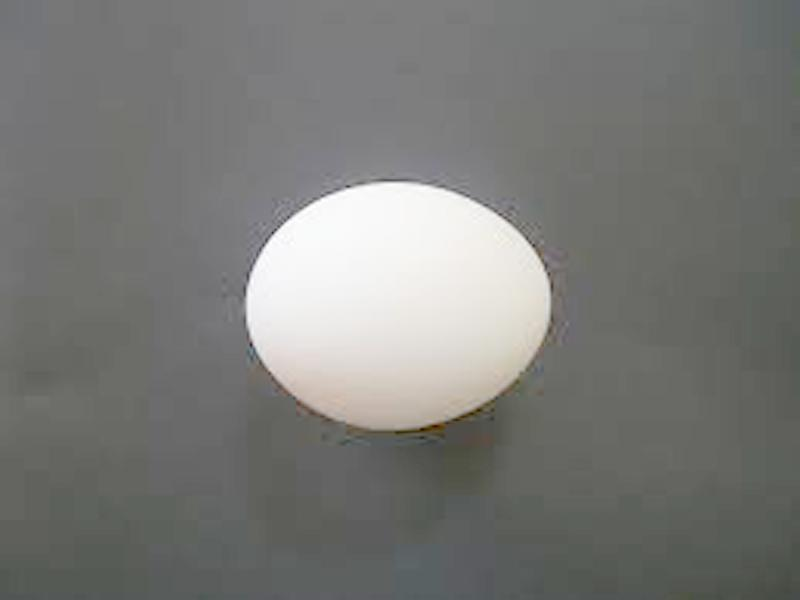Eggs: (253, 182, 553, 427)
